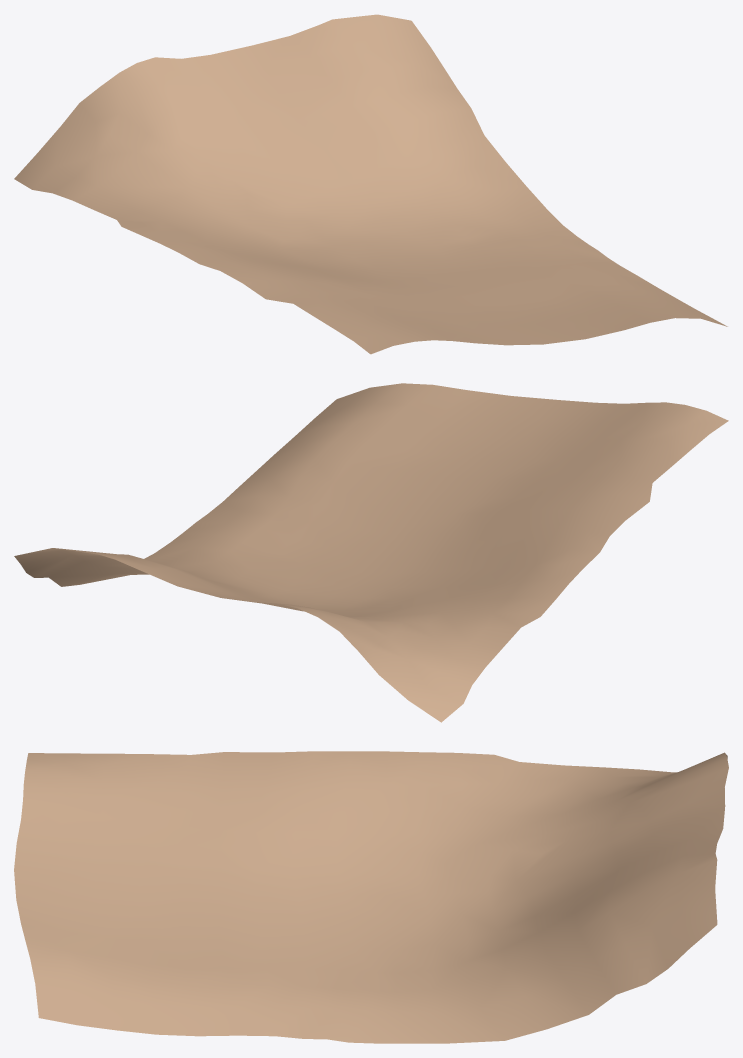
3 renders of one model, top to bottom at view 1: azimuth 30°, elevation 25°; view 2: azimuth 150°, elevation 25°; view 3: azimuth 270°, elevation 25°, orthographic. The views are drawn at different scales.
Visible parts, largest first — view 1: 左侧腘筋膜; view 2: 左侧腘筋膜; view 3: 左侧腘筋膜.
Boxes of the visible parts, x1,y1,x2,y2 form: 左侧腘筋膜: [14, 14, 727, 354]; 左侧腘筋膜: [14, 383, 728, 722]; 左侧腘筋膜: [14, 751, 728, 1043].
Bounding box in the file's own units: 0.1053 × 0.03 × 0.1426.
